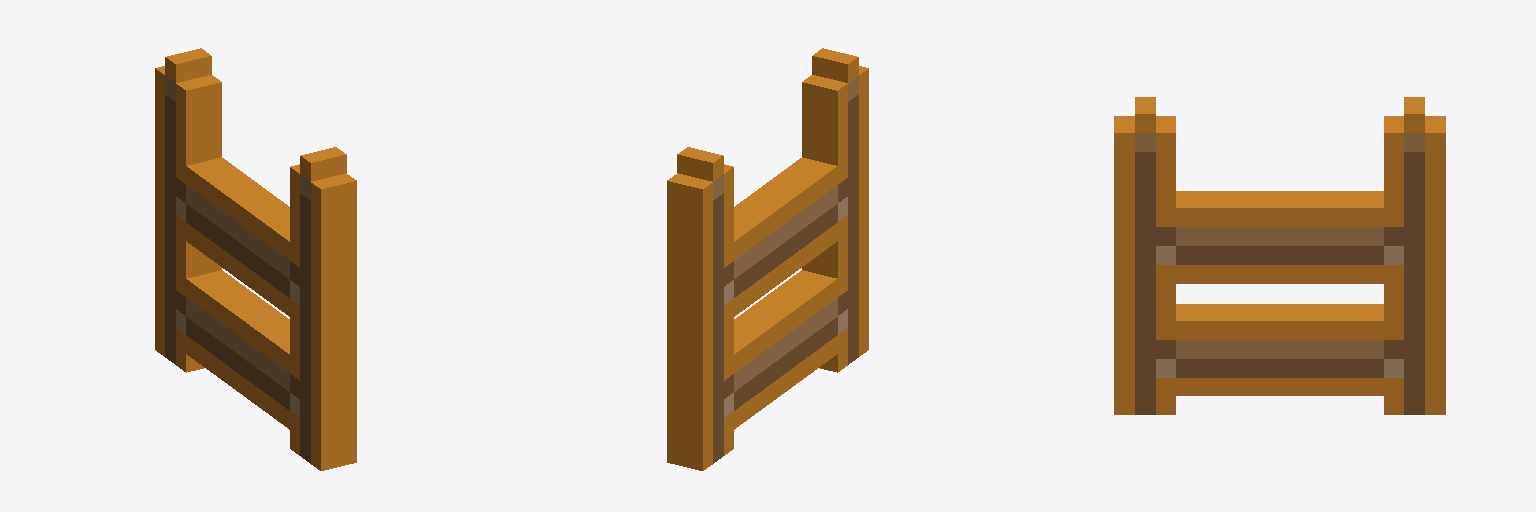
3 views of the same model, side by side, from view 1: azimuth 30°, elevation 25°; view 2: azimuth 150°, elevation 25°; view 3: azimuth 270°, elevation 25° (orthographic).
Size of the model in its own units: 2 by 16 by 16.
1 materials, 1 textured.